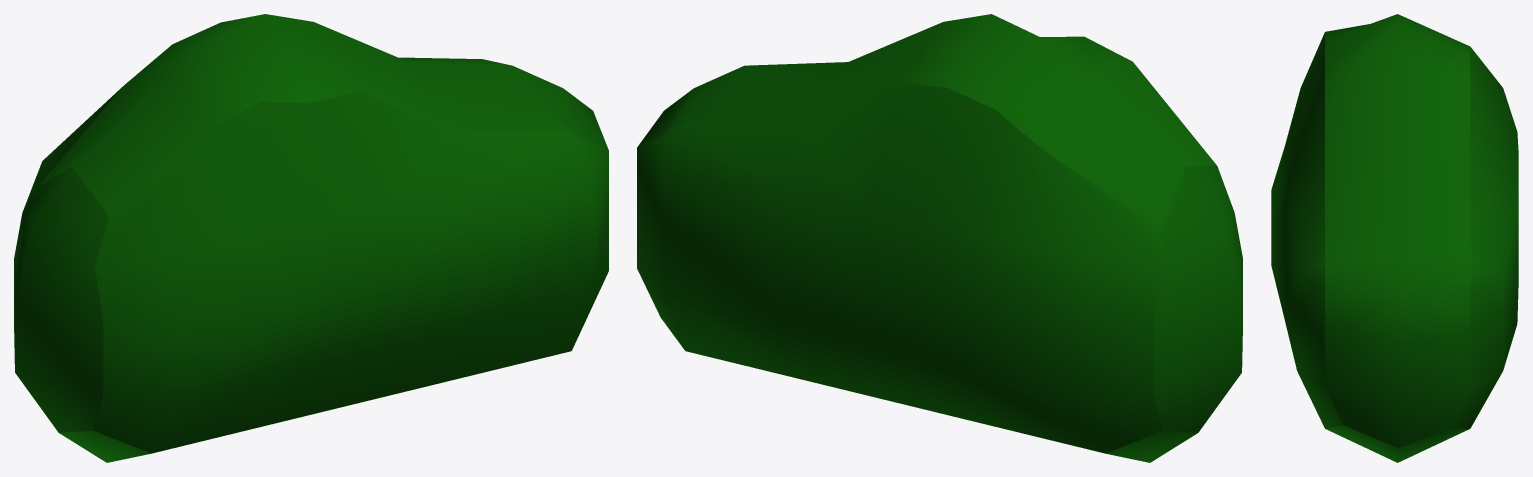
File: buisson.FBX
3 views of the same model, side by side, from view 1: azimuth 30°, elevation 25°; view 2: azimuth 150°, elevation 25°; view 3: azimuth 270°, elevation 25° (orthographic). The views are drawn at different scales.
Parts seen in each view (by area): view 1: Box001; view 2: Box001; view 3: Box001.
Boxes of the visible parts, box(x1,y1,x2,y2) form: Box001: box(14, 14, 608, 462); Box001: box(637, 14, 1242, 462); Box001: box(1271, 14, 1518, 462).
Bounding box in the file's own units: 95.12 × 63.21 × 42.29.
